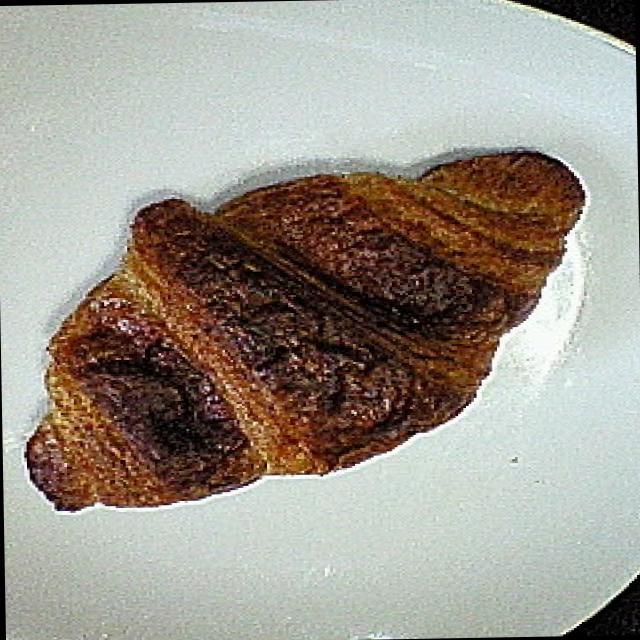Croissant: (27, 126, 588, 524)
